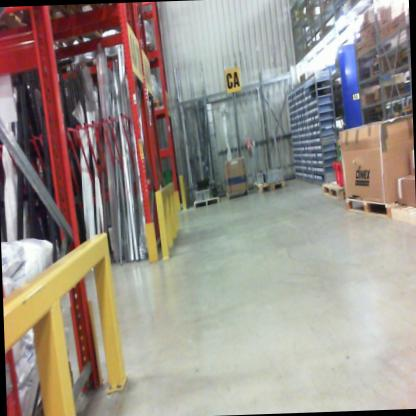pallet: (17, 5, 123, 53), (0, 8, 41, 59), (343, 184, 393, 224), (387, 197, 416, 232), (253, 174, 288, 198), (319, 178, 345, 207), (141, 38, 160, 73), (192, 192, 225, 210), (225, 184, 252, 203), (151, 96, 165, 115)
small_load_carrier: (331, 159, 347, 189)
